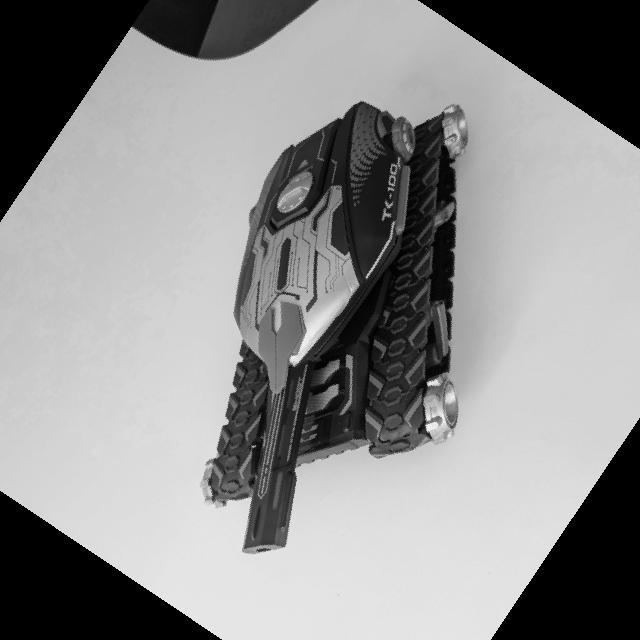barrel: (243, 363, 312, 555)
